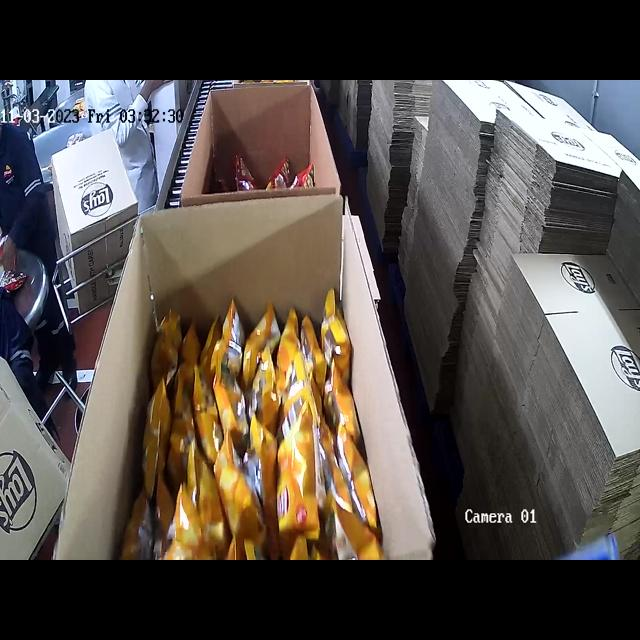cheese: (141, 307, 374, 560)
masala: (205, 124, 321, 206)
